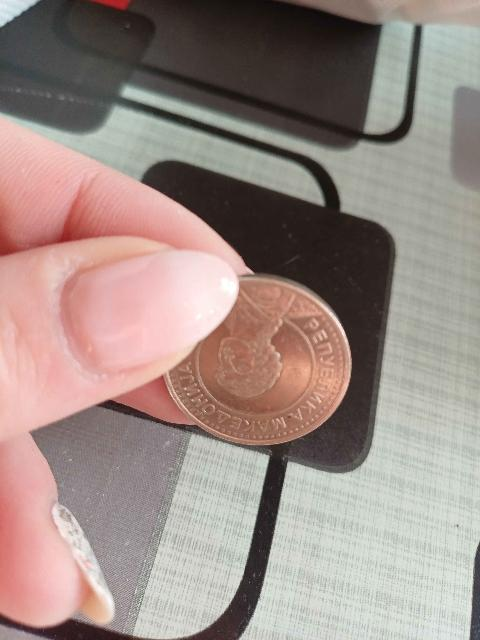50_coin: (173, 281, 352, 447)
